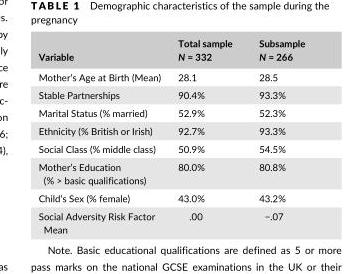table: (37, 36, 304, 234)
table column: (37, 36, 168, 234), (168, 36, 244, 234), (244, 36, 304, 234)
table column header: (37, 36, 304, 66)
table row: (37, 157, 304, 188), (37, 36, 304, 66), (37, 206, 304, 234), (37, 66, 304, 85), (37, 85, 304, 103), (37, 103, 304, 121), (37, 121, 304, 139), (37, 139, 304, 157), (37, 188, 304, 206)
